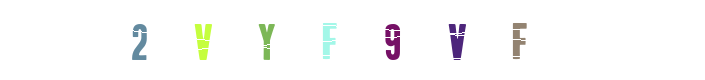2: (130, 0, 210, 80)
9: (313, 0, 393, 80)
F: (276, 0, 356, 80), (458, 0, 538, 80)
V: (163, 0, 243, 80), (385, 0, 465, 80)
Y: (226, 0, 306, 80)
